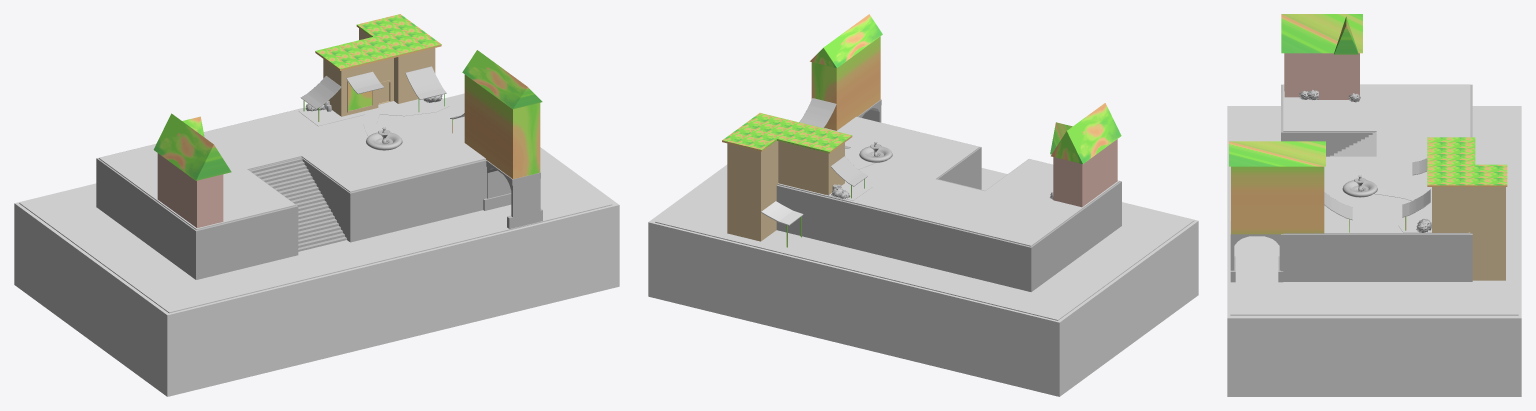
File: hubTEST.fbx
The picture shows the model from 3 angles, left to right: view 1: azimuth 30°, elevation 25°; view 2: azimuth 150°, elevation 25°; view 3: azimuth 270°, elevation 25°; orthographic projection. The views are drawn at different scales.
Visible parts, largest first — view 1: Cube.001, Cube, Cube.009, Plane, Cube.003, Plane.006, Cube.007, Plane.013, Plane.007, Cube.010, Plane.011, Plane.005 (+8 smaller); view 2: Cube.001, Cube.009, Cube, Plane, Cube.008, Cube.003, Cube.007, Plane.013, Cube.011, Plane.011, Cube.004, Cube.002 (+5 smaller); view 3: Cube.001, Cube, Plane, Cube.009, Cube.003, Cube.008, Cube.007, Plane.013, Plane.011, Cube.011, Cube.005, Cube.010 (+7 smaller).
Part boxes in pixels (<box>): Cube.001: <box>14,93,619,396</box>; Cube: <box>19,94,612,313</box>; Cube.009: <box>96,107,486,279</box>; Plane: <box>99,99,485,229</box>; Cube.003: <box>464,74,540,178</box>; Plane.006: <box>250,158,346,251</box>; Cube.007: <box>315,14,441,70</box>; Plane.013: <box>153,113,231,180</box>; Plane.007: <box>483,160,542,228</box>; Cube.010: <box>179,169,223,227</box>; Plane.011: <box>462,50,542,109</box>; Plane.005: <box>298,99,449,136</box>; Cube.001: <box>648,164,1198,396</box>; Cube.009: <box>776,117,1121,291</box>; Cube: <box>655,168,1194,320</box>; Plane: <box>777,116,1119,246</box>; Cube.008: <box>727,141,778,241</box>; Cube.003: <box>811,36,880,130</box>; Cube.007: <box>722,113,852,153</box>; Plane.013: <box>1051,103,1121,163</box>; Cube.011: <box>1053,151,1101,207</box>; Plane.011: <box>810,14,882,67</box>; Cube.004: <box>778,141,809,190</box>; Cube.002: <box>809,143,844,195</box>; Cube.001: <box>1227,106,1521,396</box>; Cube: <box>1230,106,1518,315</box>; Plane: <box>1283,84,1470,234</box>; Cube.009: <box>1281,84,1472,281</box>; Cube.003: <box>1231,166,1324,234</box>; Cube.008: <box>1468,187,1505,280</box>; Cube.007: <box>1427,137,1507,186</box>; Plane.013: <box>1281,14,1362,53</box>; Plane.011: <box>1229,141,1325,166</box>; Cube.011: <box>1319,53,1359,99</box>; Cube.005: <box>1432,187,1468,232</box>; Cube.010: <box>1284,53,1318,97</box>.
Size of the model in its own units: 14202 by 6646 by 8327.
